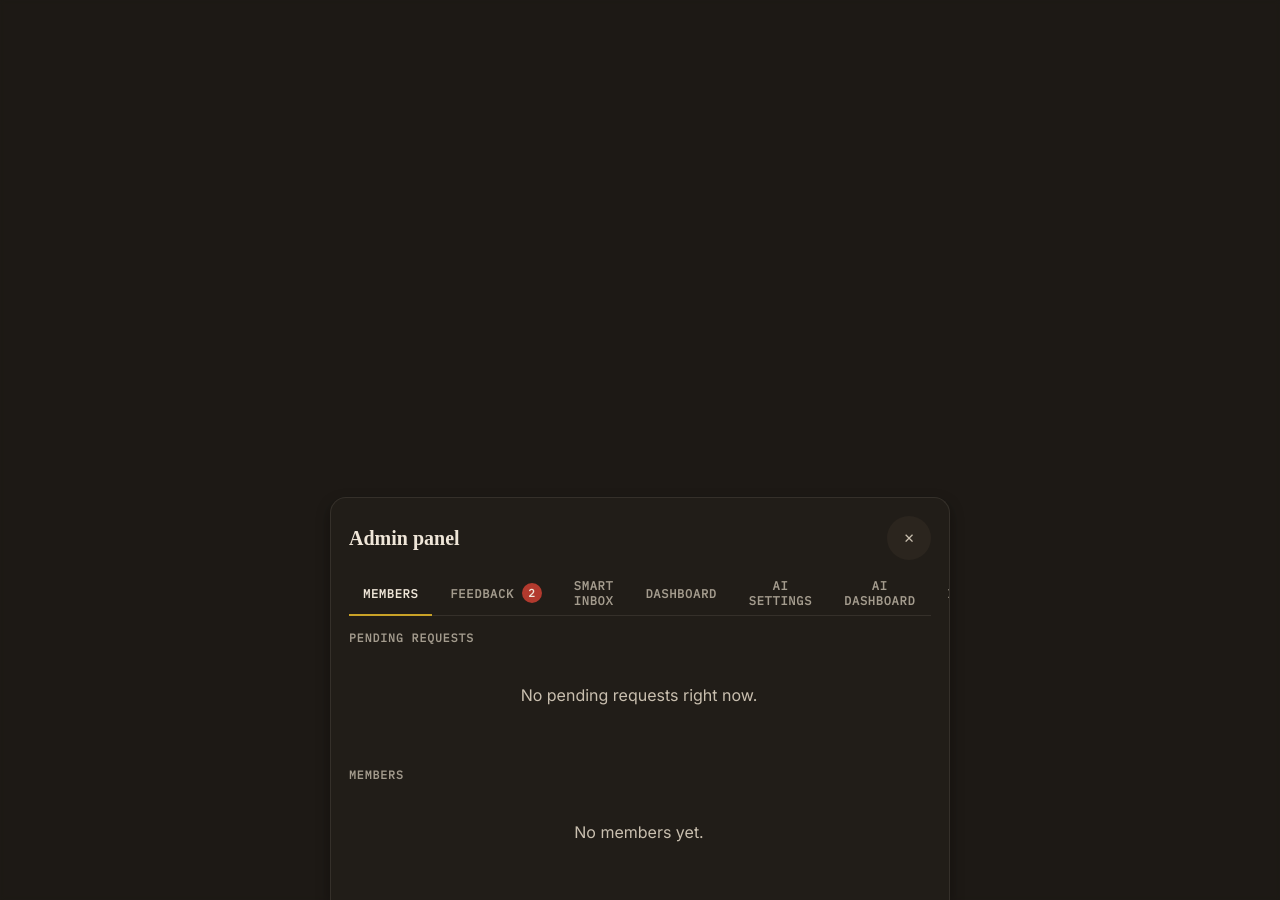
Test: Admin feedback inbox (epic #74, T6 #75) › filters the inbox by status
Click the tab "Feedback 2" at {"x": 496, "y": 594}, box [436,572,556,616]
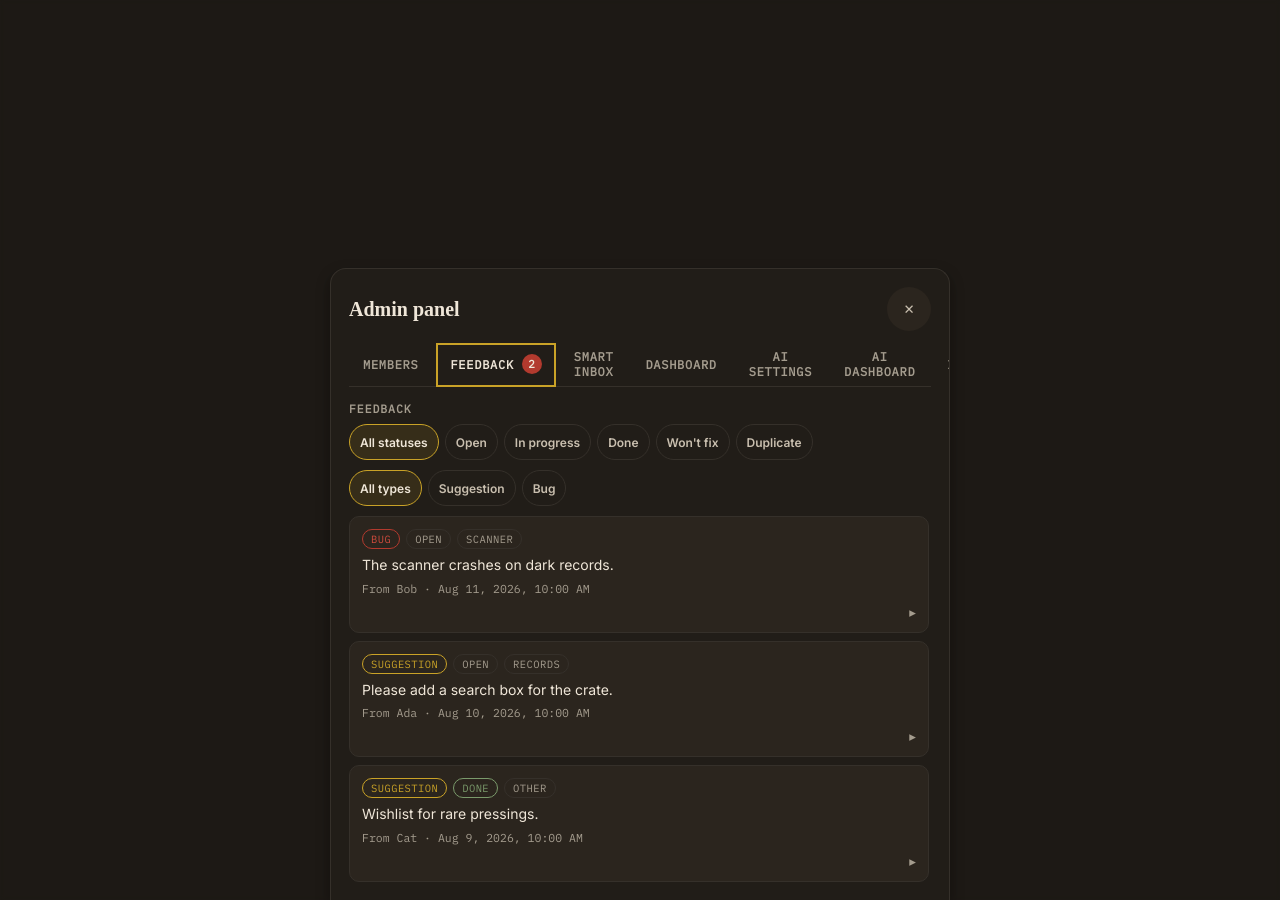
Click the button "Done" at {"x": 623, "y": 442}, box [597,424,650,460]
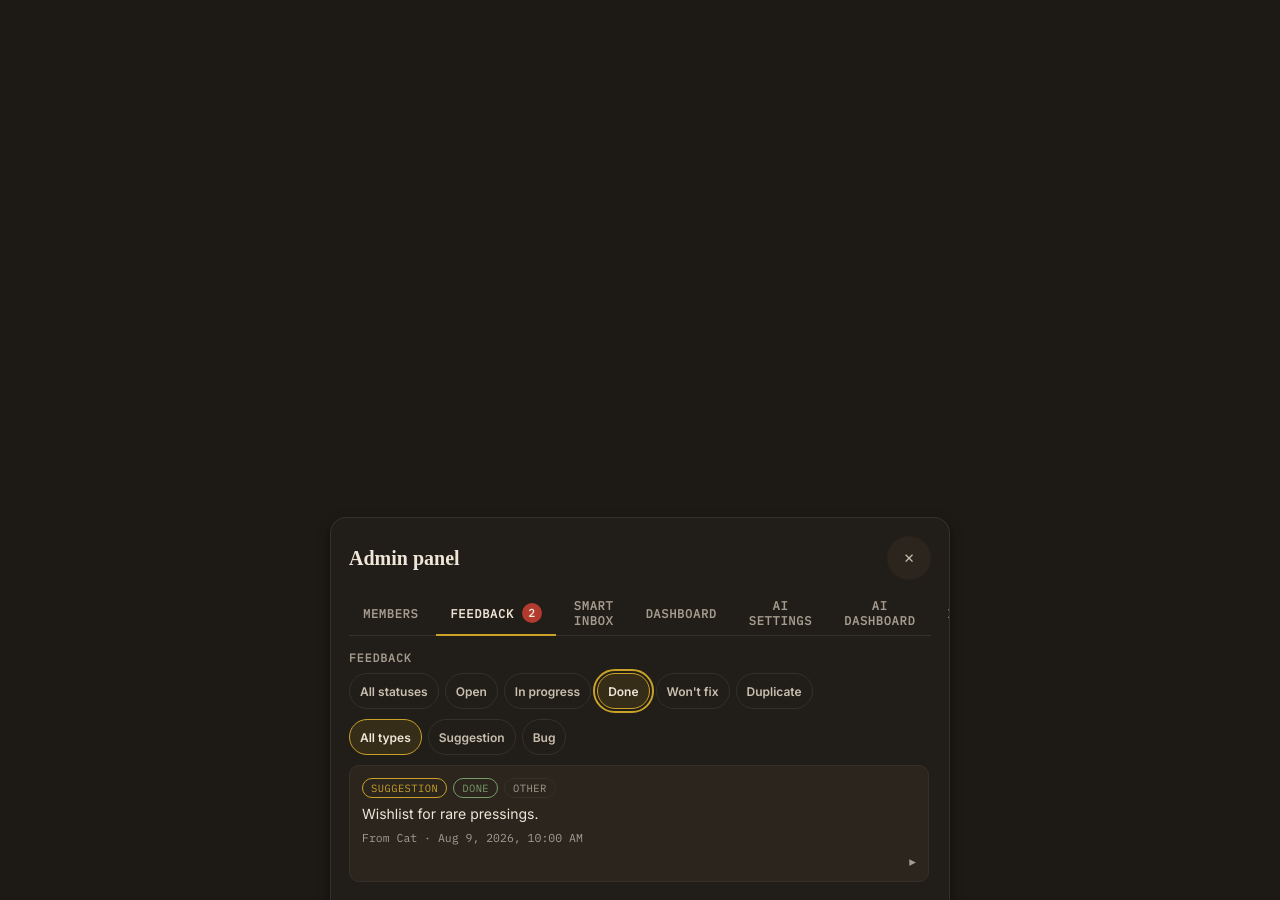
Result: the text "Wishlist for rare pressings." is shown at [362,804,538,824]
Result: the button "scanner crashes" is gone
Result: the button "Please add" is gone
